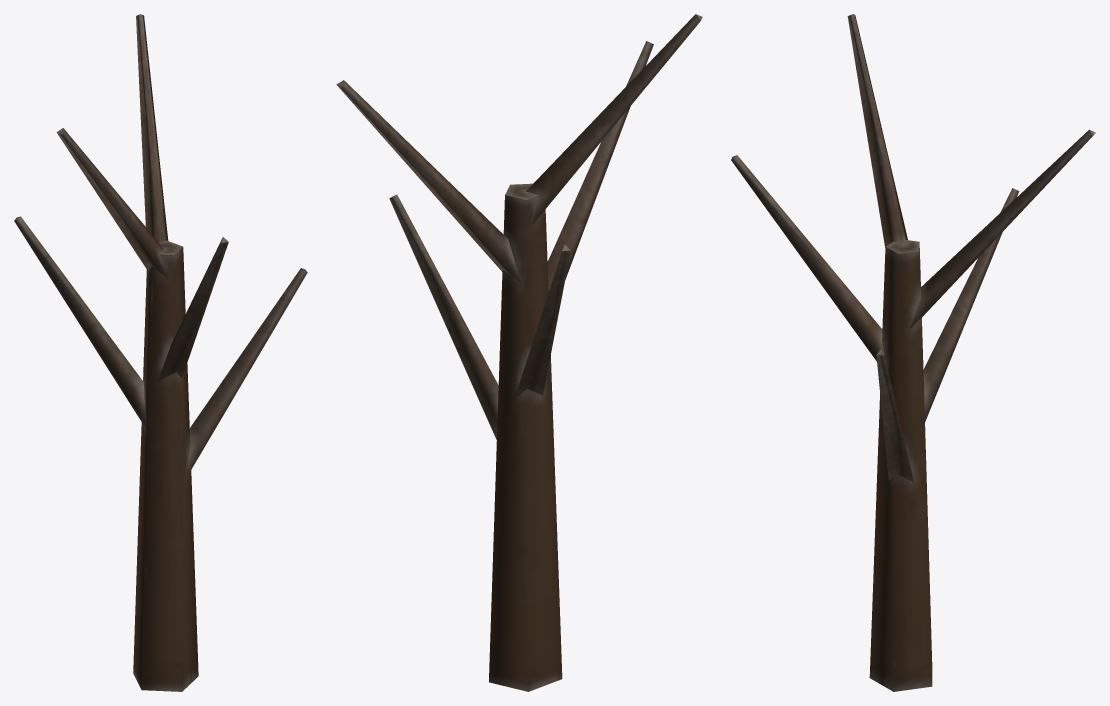
File: tree_4.glb
3 renders of one model, left to right at view 1: azimuth 30°, elevation 25°; view 2: azimuth 150°, elevation 25°; view 3: azimuth 270°, elevation 25°, orthographic. The views are drawn at different scales.
Parts seen in each view (by area): view 1: te_prop_tree_4; view 2: te_prop_tree_4; view 3: te_prop_tree_4.
Part boxes in pixels (box(x1,y1,x2,y2)): te_prop_tree_4: box(14, 14, 307, 691); te_prop_tree_4: box(336, 14, 702, 691); te_prop_tree_4: box(731, 14, 1095, 691).
Size of the model in its own units: 0.1931 by 0.4218 by 0.2318.
Materials: 1 (1 with a texture image).
